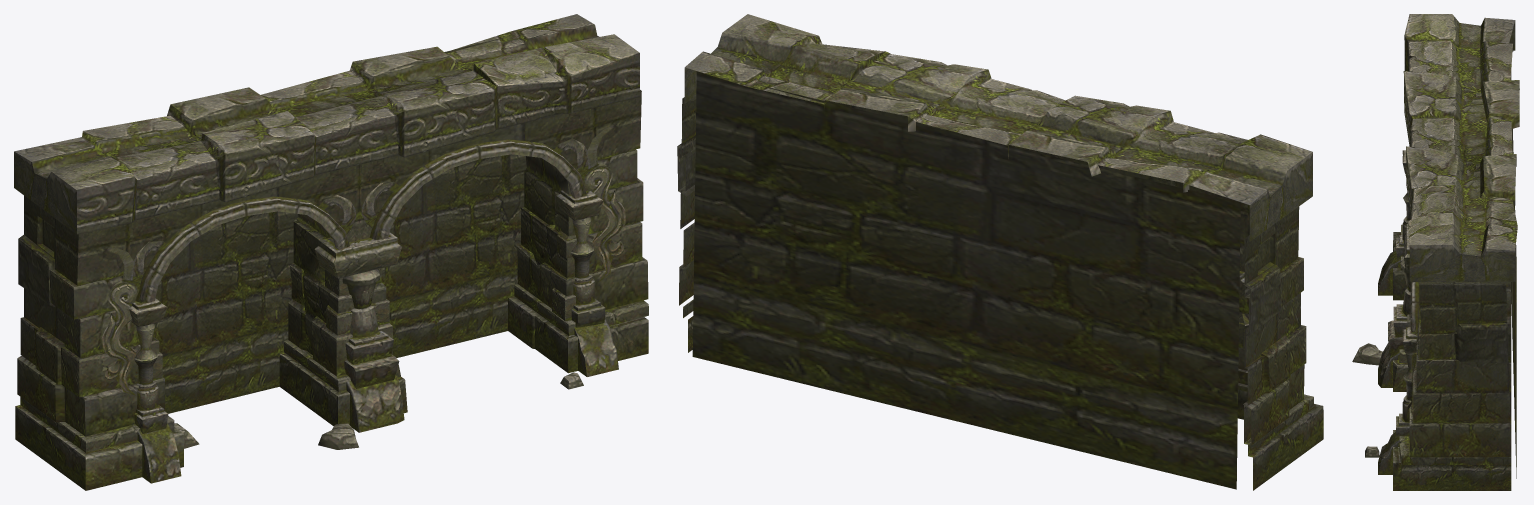
File: 4009_Item_qiang_2.FBX
3 views of the same model, side by side, from view 1: azimuth 30°, elevation 25°; view 2: azimuth 150°, elevation 25°; view 3: azimuth 270°, elevation 25° (orthographic). The views are drawn at different scales.
Parts seen in each view (by area): view 1: 4009_Item_qiang_2; view 2: 4009_Item_qiang_2; view 3: 4009_Item_qiang_2.
Boxes of the visible parts, <box> form: 4009_Item_qiang_2: <box>14,14,648,490</box>; 4009_Item_qiang_2: <box>677,14,1323,490</box>; 4009_Item_qiang_2: <box>1352,14,1519,490</box>.
Size of the model in its own units: 957 by 287 by 473.
